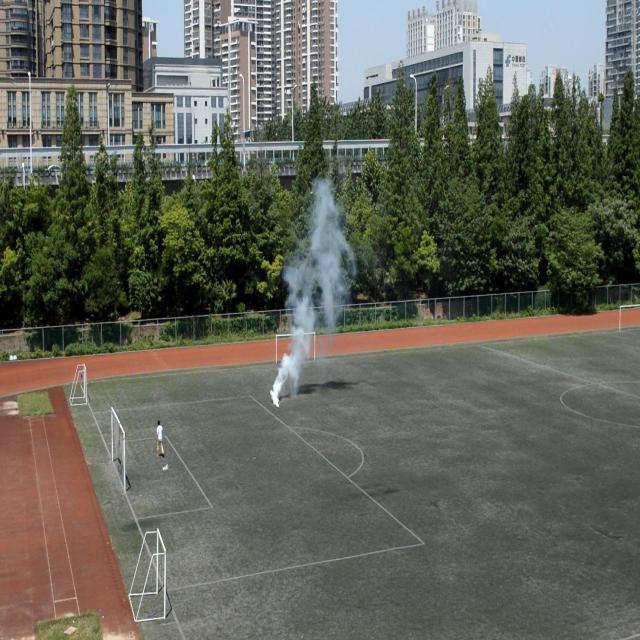smoke: (269, 180, 355, 407)
